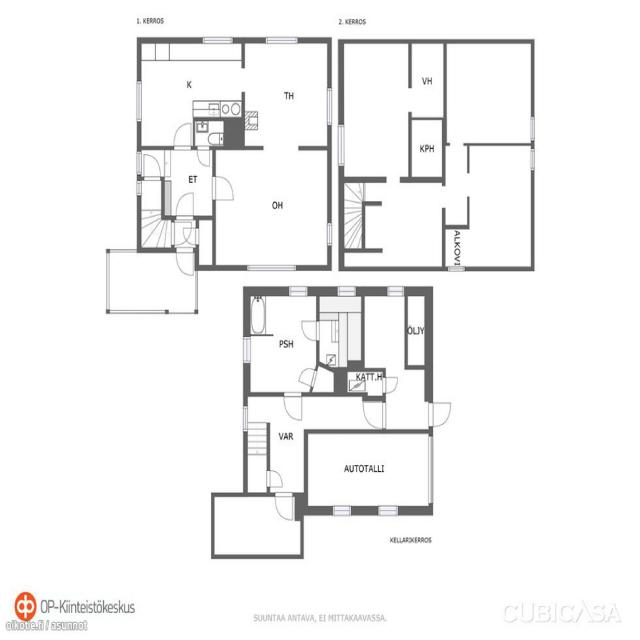door: (364, 402, 386, 428), (428, 403, 451, 427), (212, 176, 233, 200), (284, 393, 302, 420), (171, 222, 192, 245), (298, 364, 318, 387), (176, 193, 193, 220), (177, 247, 193, 275), (276, 492, 292, 520), (174, 124, 191, 149), (144, 155, 160, 181), (301, 321, 320, 341), (183, 228, 199, 245), (267, 470, 282, 487), (197, 146, 209, 166), (382, 377, 397, 393)
